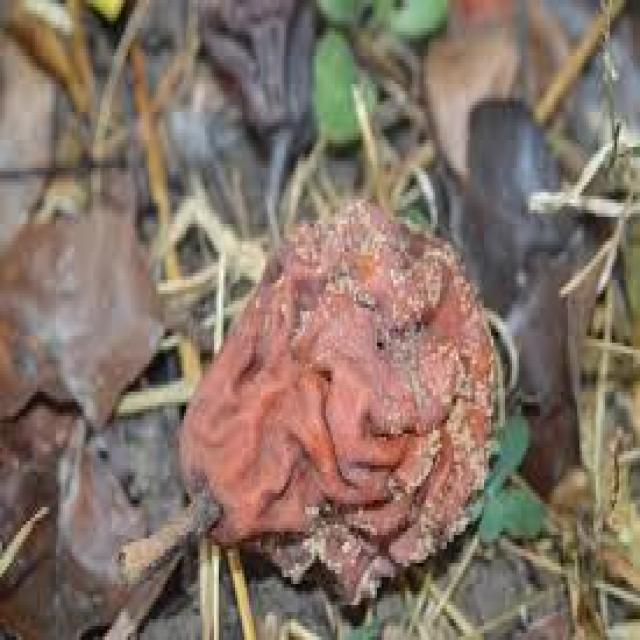organic waste: (114, 196, 505, 608), (461, 95, 619, 493), (0, 206, 179, 424), (0, 395, 151, 636)
